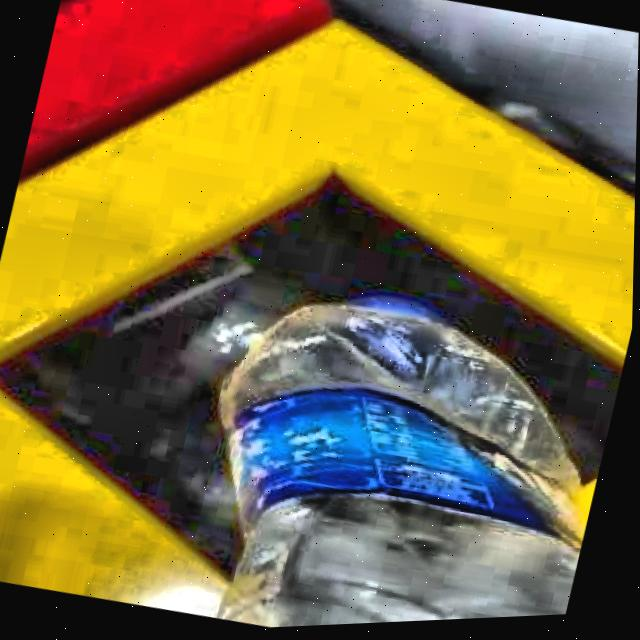plastic: (220, 304, 585, 630)
